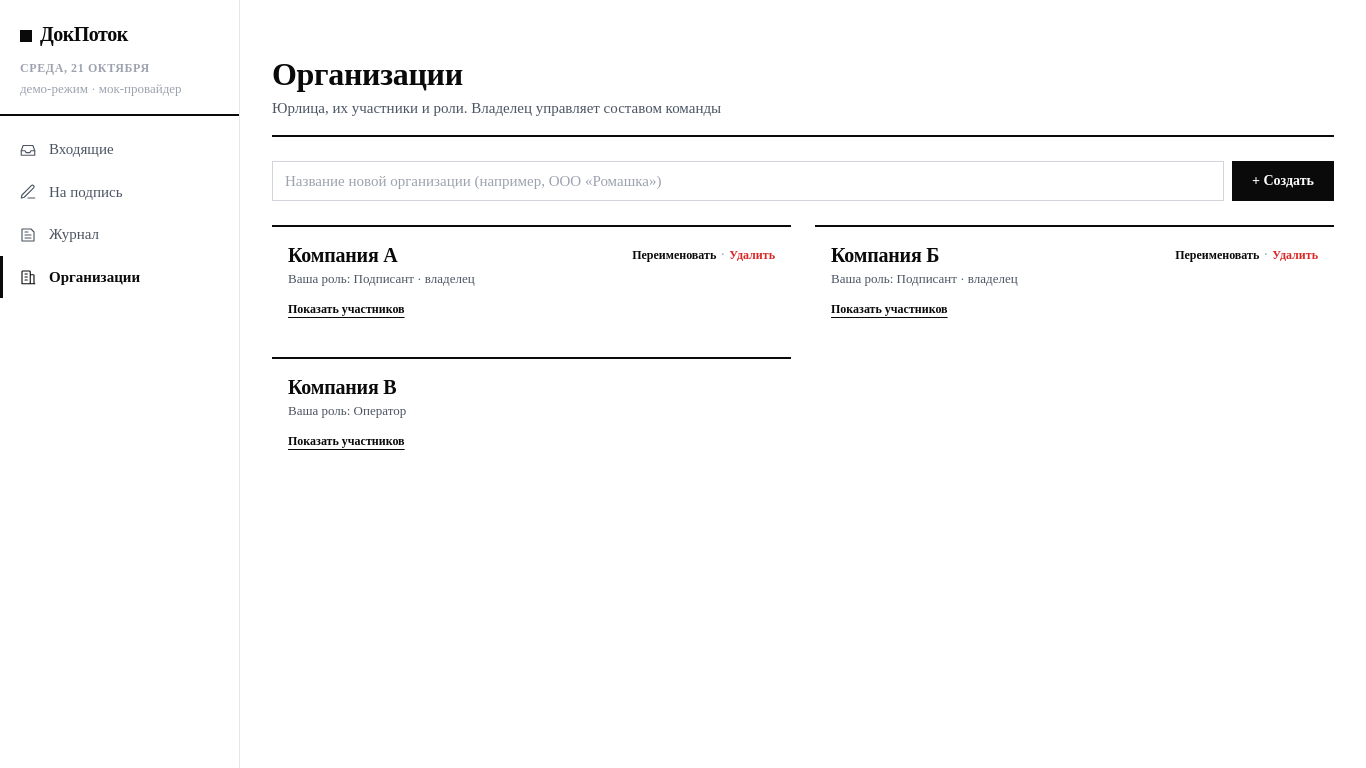
Scenario: Организации (CRUD) › добавляет участника по email и отклоняет незарегистрированного (негативный)
Click the button "Показать участников" below "Компания А": (346, 309) [288,301,405,317]
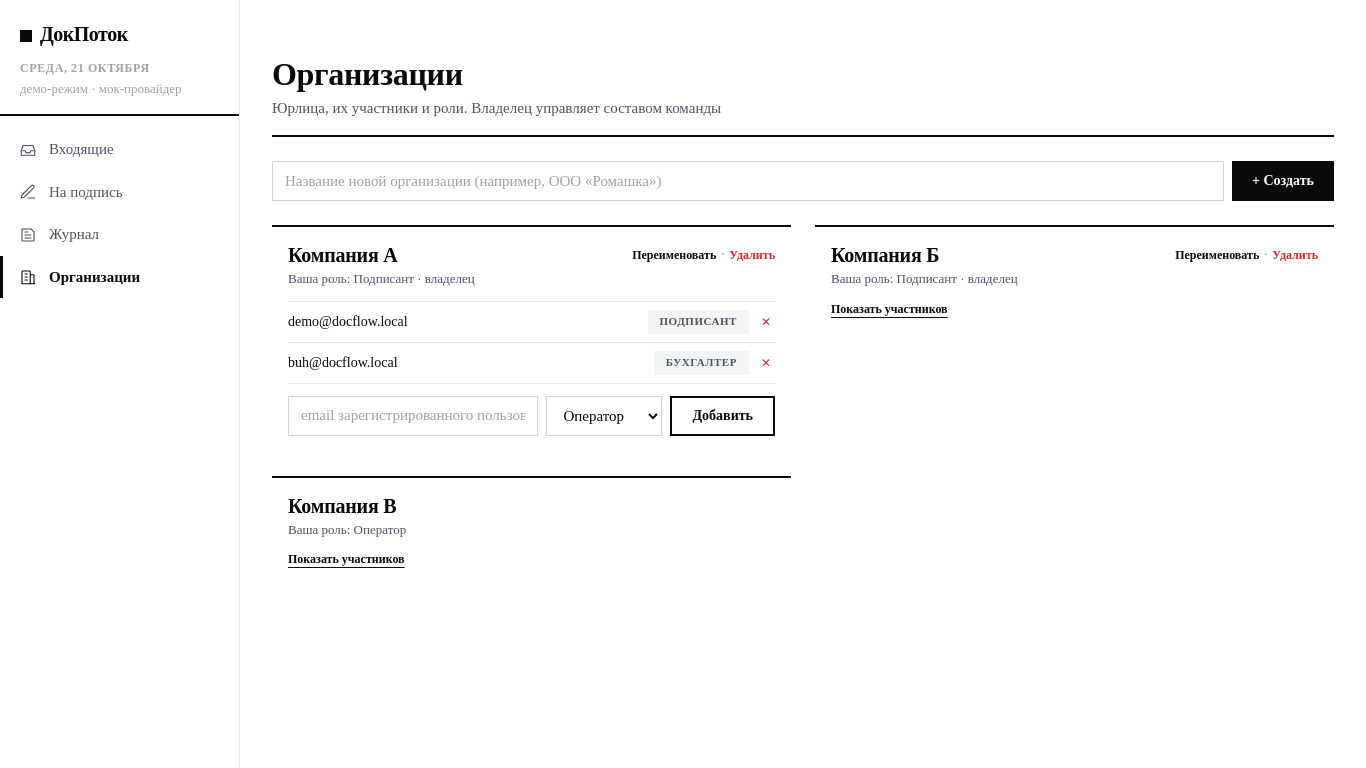
Expected: the text "demo@docflow.local" is shown, [288,312,408,332]
In the field named "Email участника": (413, 416) [288,396,538,436], type "new@docflow.local"
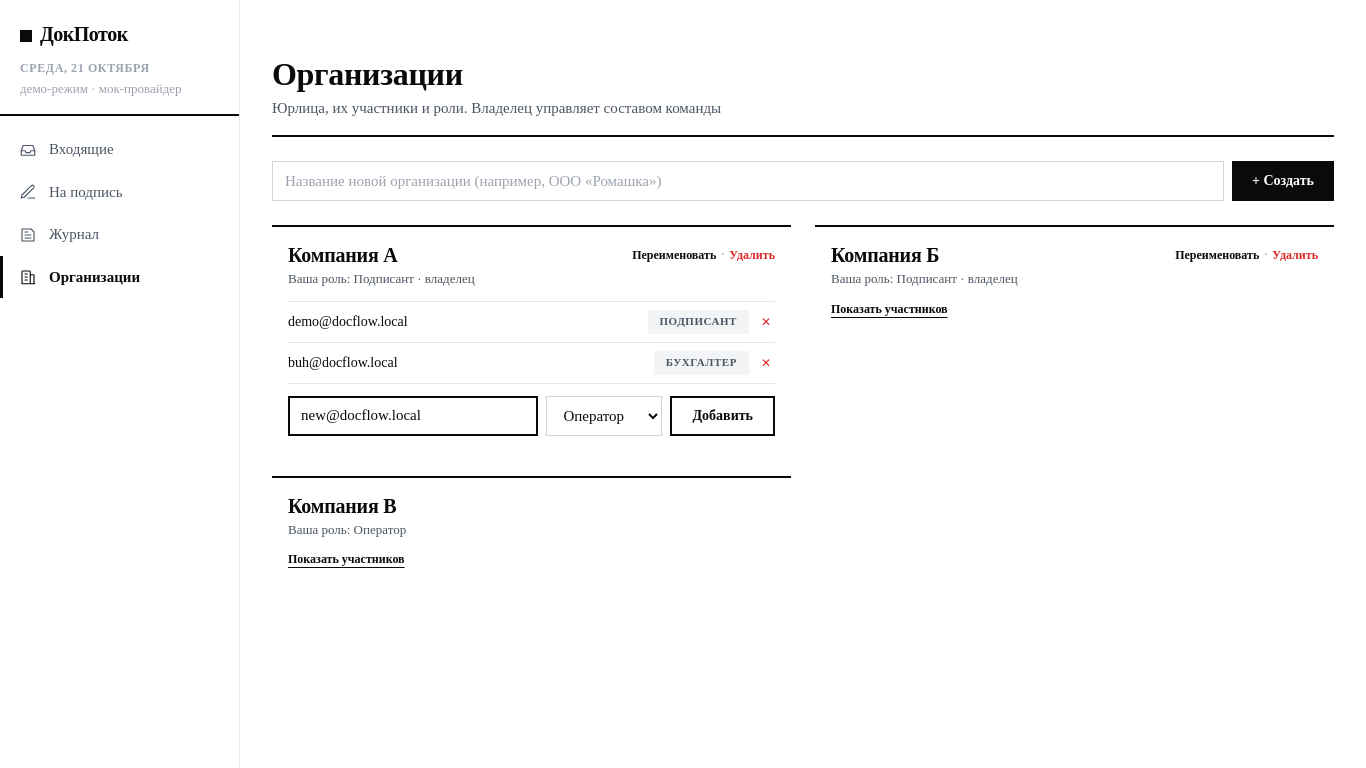
Click the button "Добавить": (723, 416) [670,396,775,436]
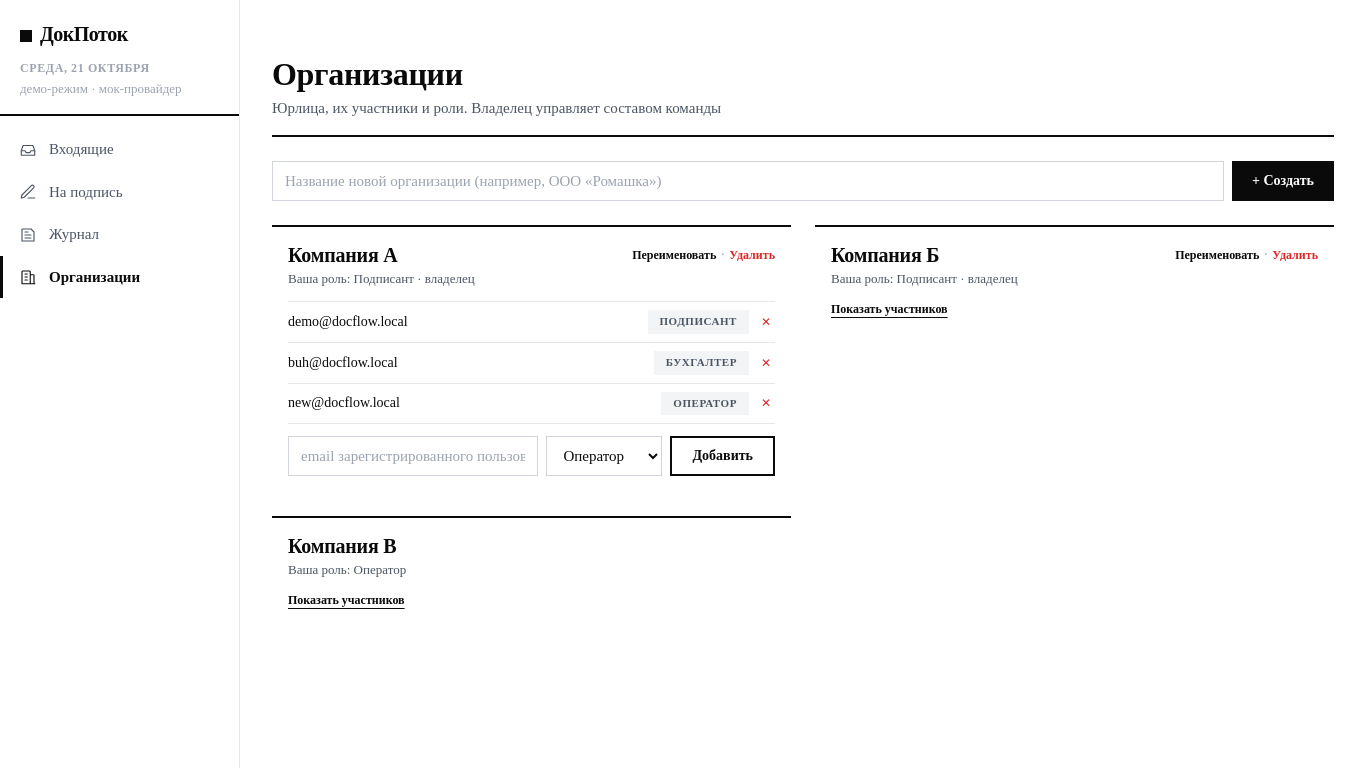
Expected: the text "new@docflow.local" is shown, [288,393,400,413]
In the field named "Email участника": (413, 456) [288,436,538,476], type "nobody@other.ru"
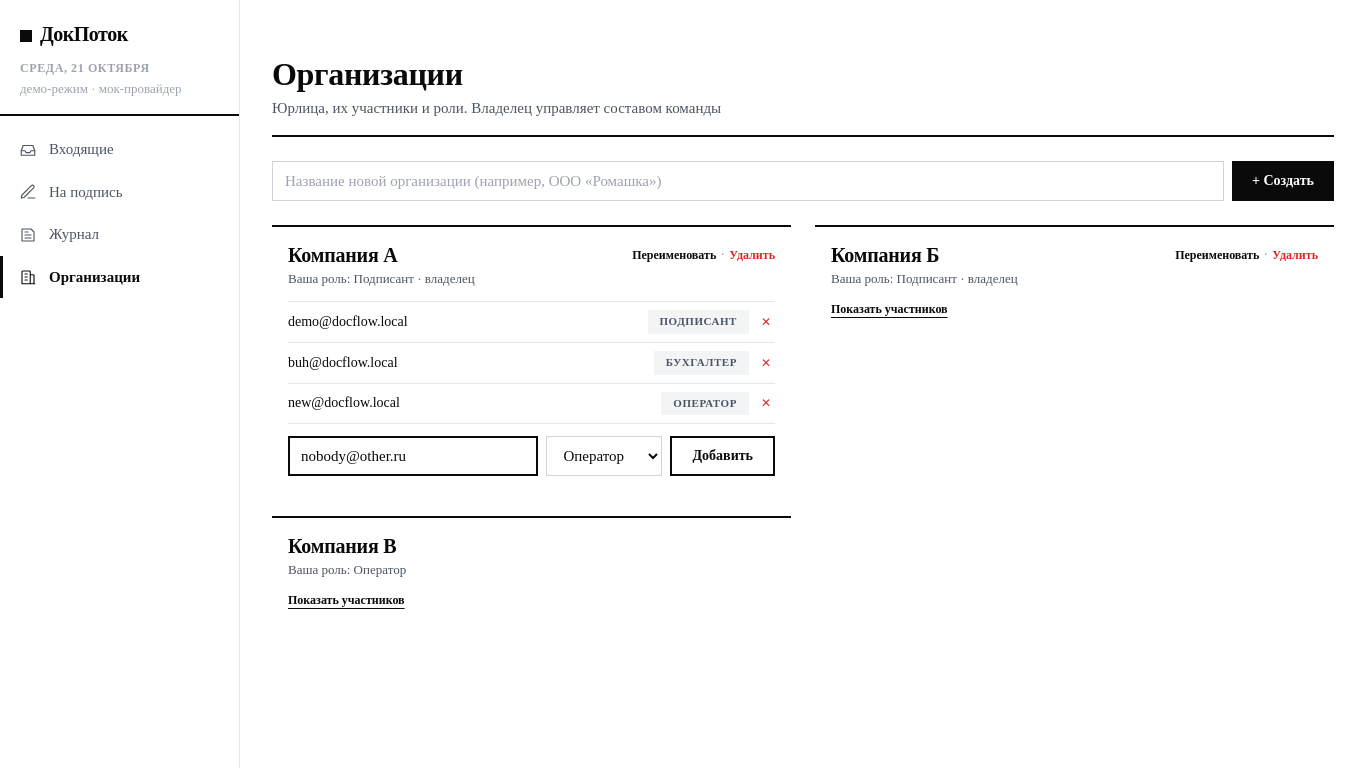
Click the button "Добавить": (723, 456) [670,436,775,476]
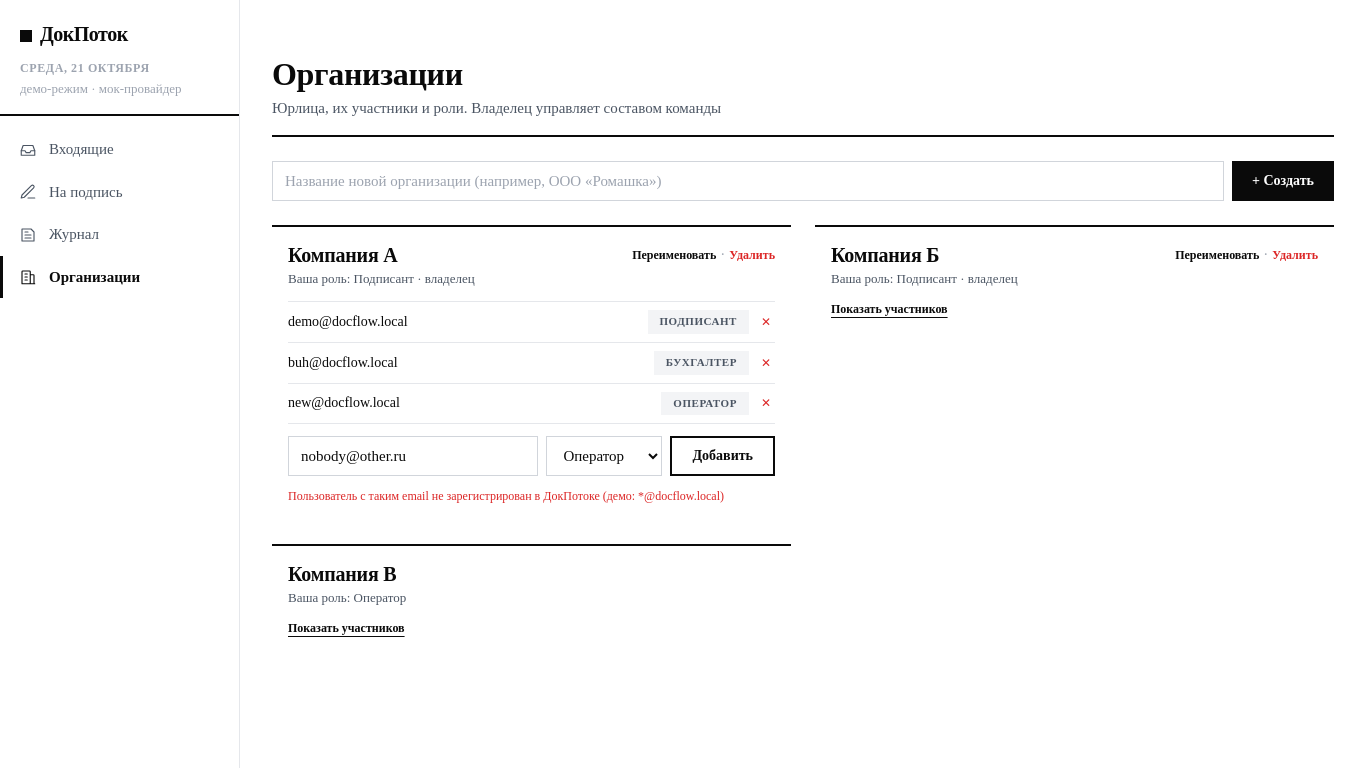
Expected: the message shows "не зарегистрирован", [288,489,724,503]
